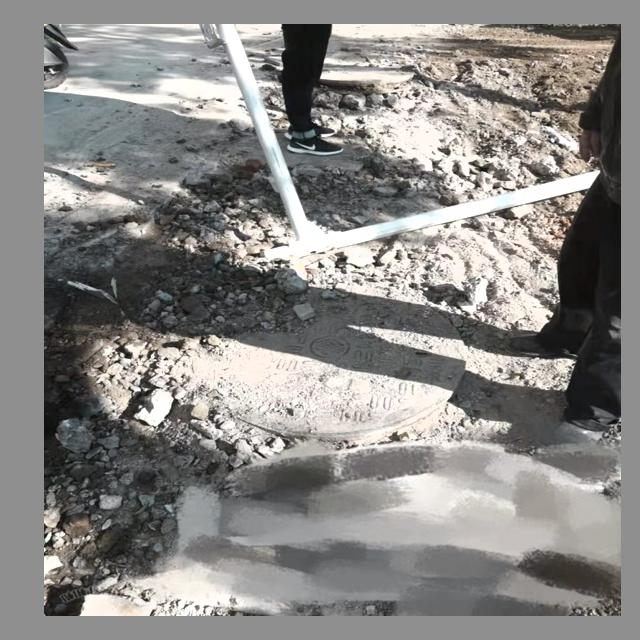circle: (139, 281, 504, 469)
